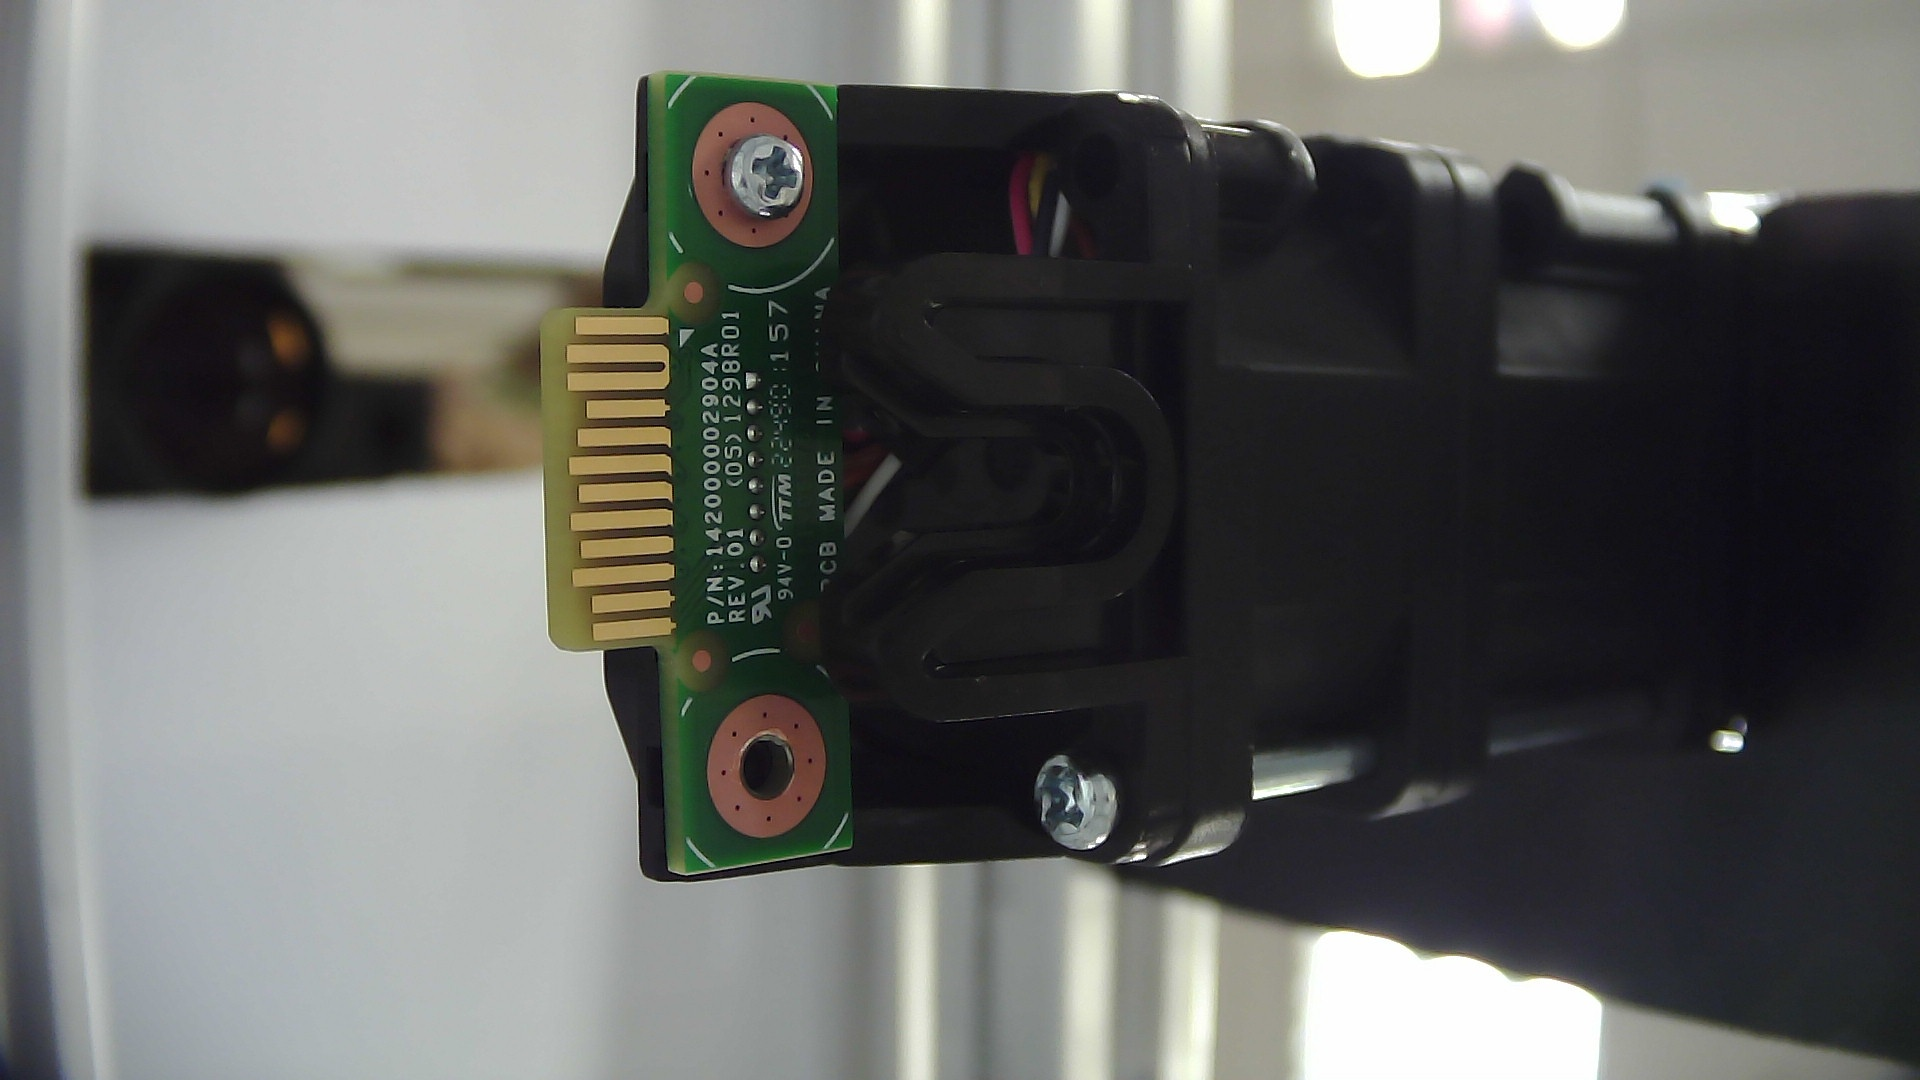7_1: (690, 655, 847, 848)
